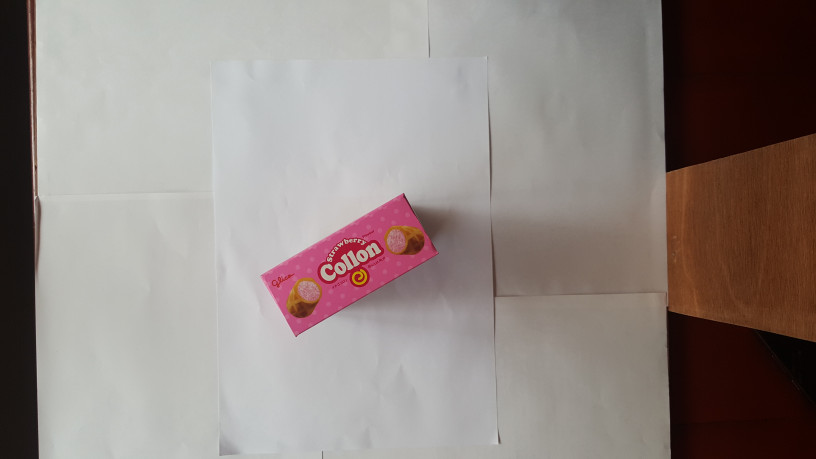collon-strawberry: (261, 191, 441, 335)
